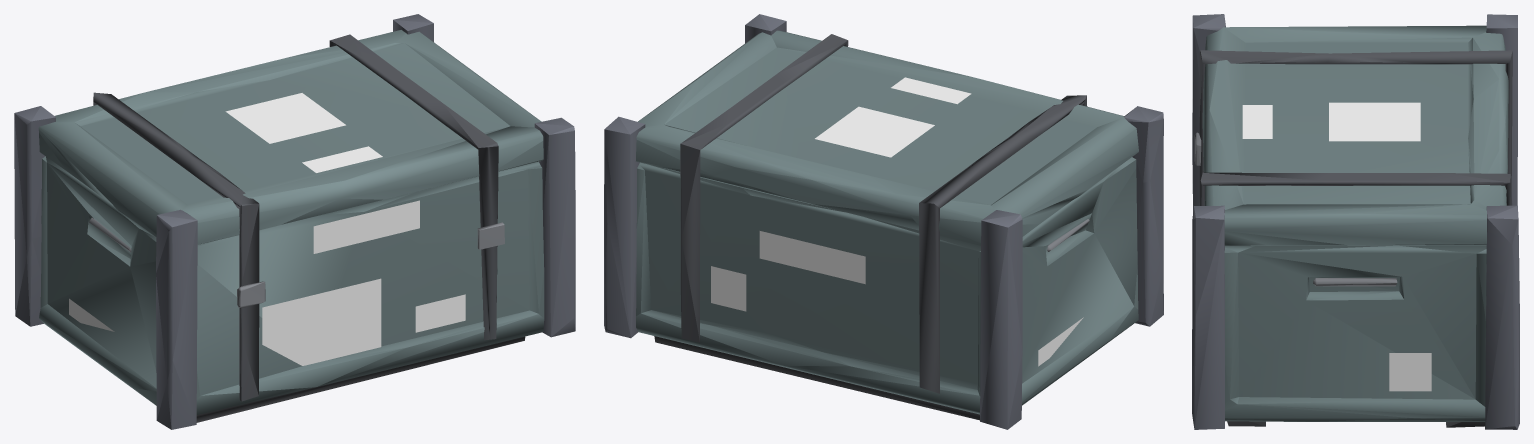
Rendered from caisse_l_b.glb.
3 views of the same model, side by side, from view 1: azimuth 30°, elevation 25°; view 2: azimuth 150°, elevation 25°; view 3: azimuth 270°, elevation 25° (orthographic). The views are drawn at different scales.
Visible parts, largest first — view 1: caisse_l_b, caisse_l_b_decal; view 2: caisse_l_b, caisse_l_b_decal; view 3: caisse_l_b, caisse_l_b_decal.
Part boxes in pixels (x1,y1,x2,y2): caisse_l_b: [14, 14, 575, 429]; caisse_l_b_decal: [69, 93, 465, 365]; caisse_l_b: [604, 14, 1163, 429]; caisse_l_b_decal: [711, 77, 1083, 366]; caisse_l_b: [1192, 14, 1519, 429]; caisse_l_b_decal: [1242, 102, 1431, 391].
Bounding box in the file's own units: 1.38 × 0.7192 × 0.9286.
